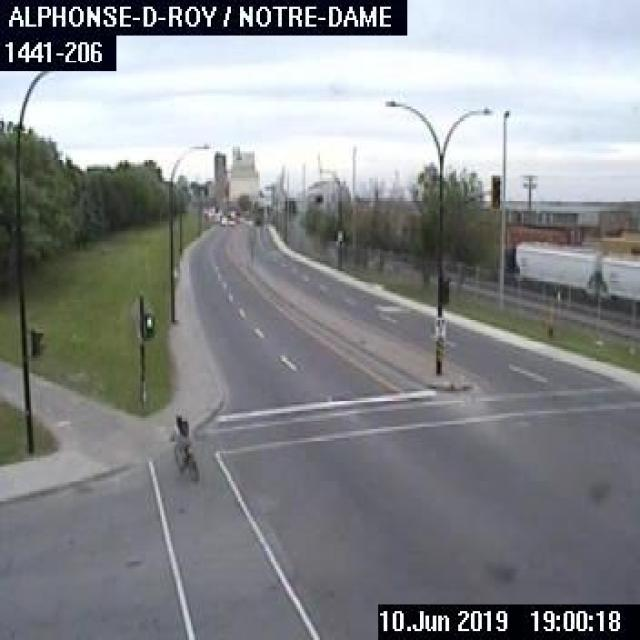cyclist: (167, 409, 202, 480)
